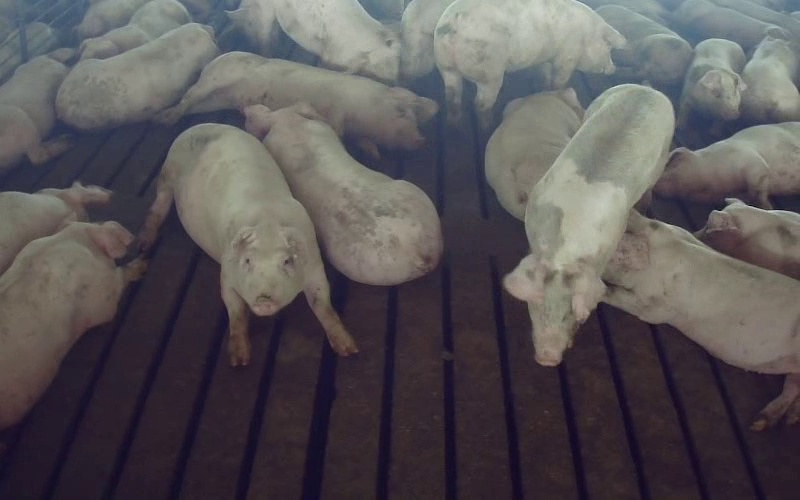pig: (138, 124, 357, 364), (504, 85, 673, 365), (603, 211, 799, 429), (0, 222, 145, 428), (158, 52, 437, 155), (434, 0, 624, 128), (55, 23, 218, 129), (485, 88, 583, 220), (655, 122, 799, 208), (251, 0, 399, 82), (0, 182, 111, 274), (0, 48, 74, 172), (695, 198, 799, 278), (595, 5, 692, 84), (80, 0, 191, 59), (678, 39, 745, 134), (671, 0, 790, 53), (741, 36, 799, 123)
